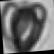correct: (0, 0, 48, 54)
